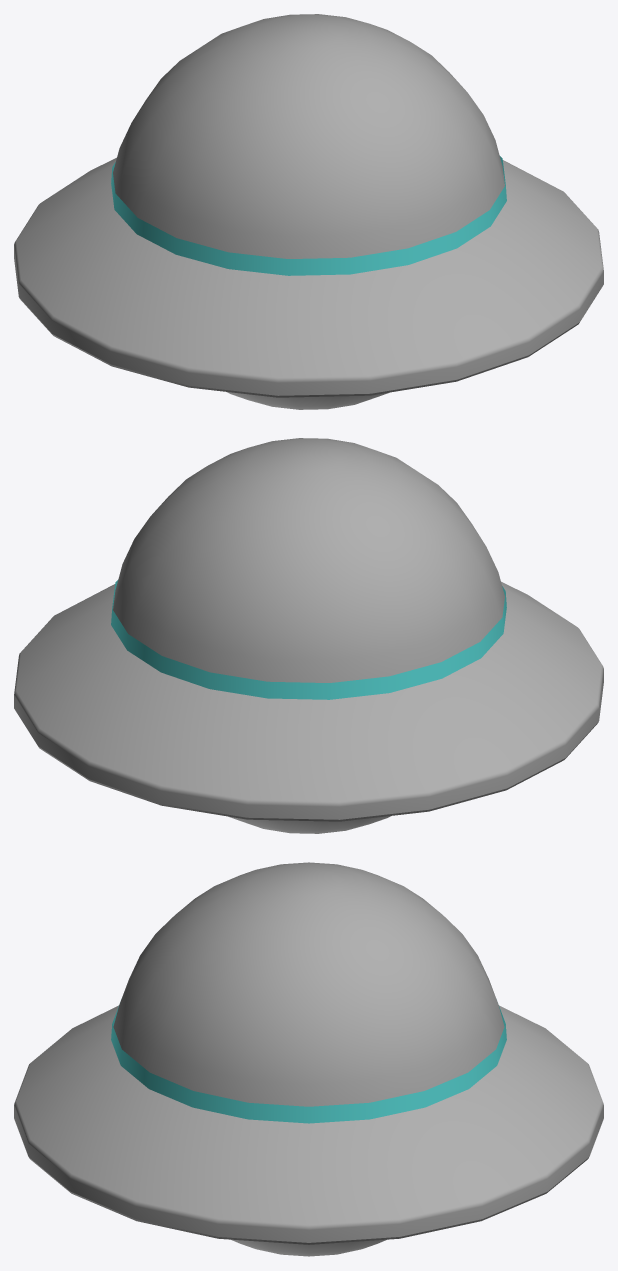
Rendered from feixingqi.fbx.
The picture shows the model from 3 angles, top to bottom: view 1: azimuth 30°, elevation 25°; view 2: azimuth 150°, elevation 25°; view 3: azimuth 270°, elevation 25°; orthographic projection.
Visible parts, largest first — view 1: pCylinder1, polySurface17, polySurface16; view 2: pCylinder1, polySurface17, polySurface16; view 3: pCylinder1, polySurface17, polySurface16.
Part boxes in pixels (<box>): pCylinder1: <box>14,157,603,397</box>; polySurface17: <box>113,14,504,409</box>; polySurface16: <box>111,156,506,275</box>; pCylinder1: <box>14,581,603,821</box>; polySurface17: <box>113,438,504,833</box>; polySurface16: <box>111,580,506,699</box>; pCylinder1: <box>14,1005,603,1244</box>; polySurface17: <box>113,862,504,1256</box>; polySurface16: <box>111,1005,506,1123</box>.
Size of the model in its own units: 3 by 3 by 2.
